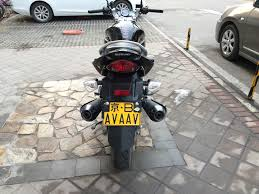motorcycle: (77, 1, 169, 171)
